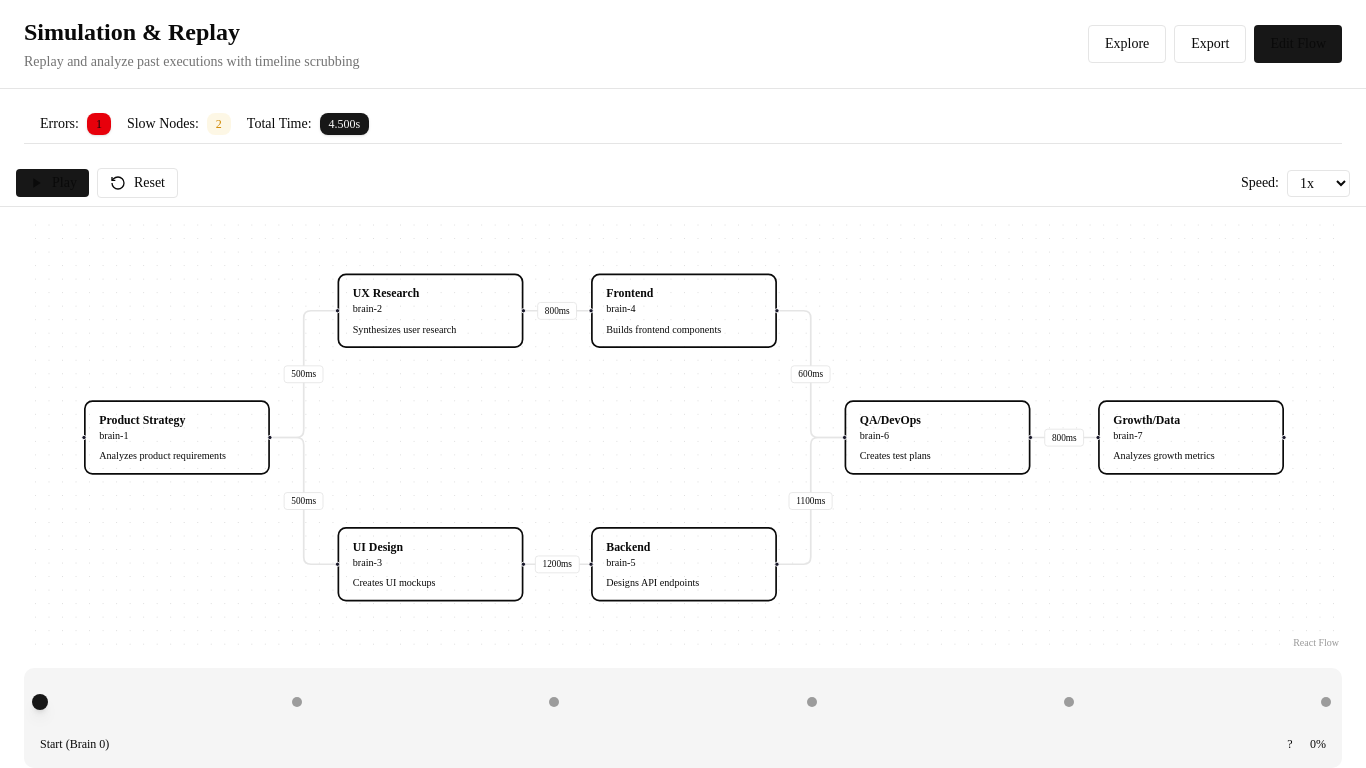
Test: Simulation Playback Flow - Integration Tests › Phase 2: Play Playback › should start playback when play button is clicked
Note: Find and click the play button
Click the button "Play" at {"x": 52, "y": 183}, box [16,169,89,197]
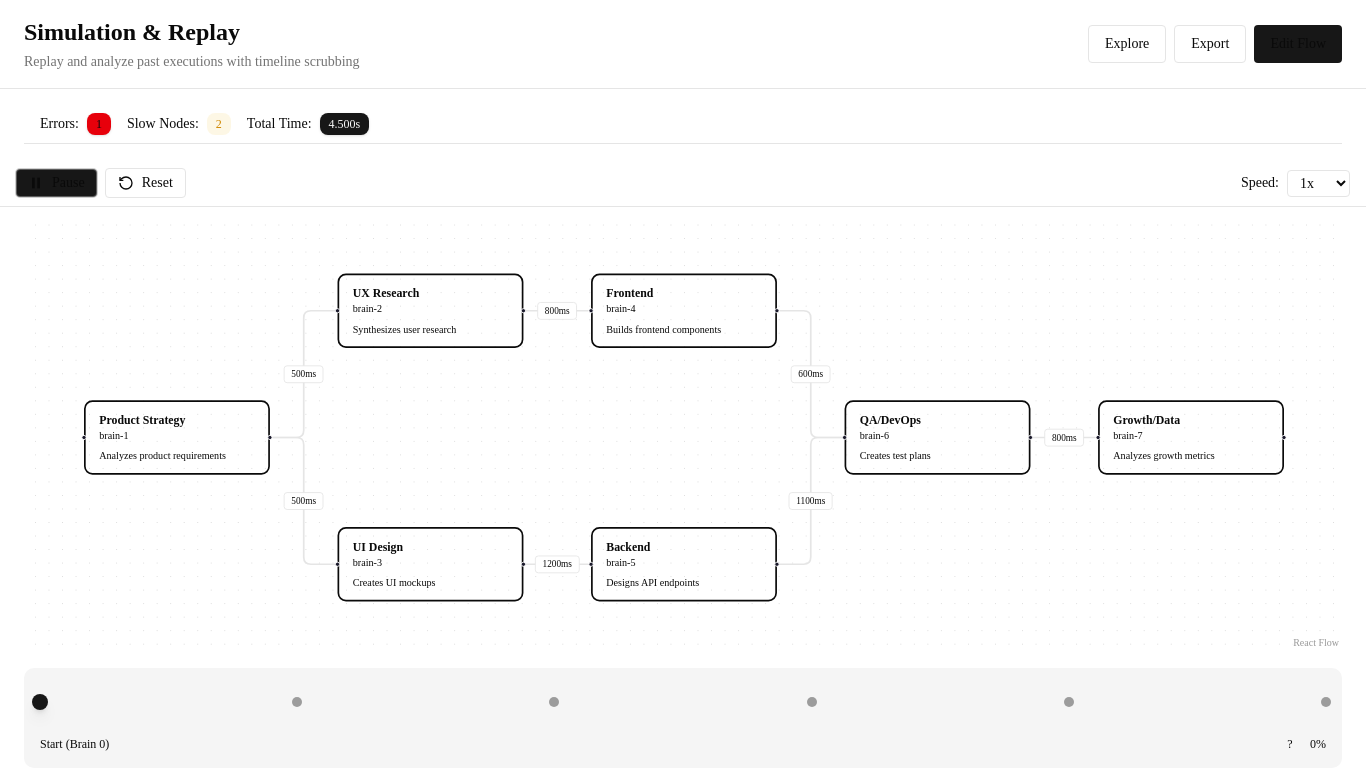
Result: the button "Pause" is shown at [16,169,97,197]
